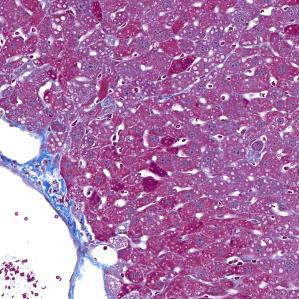fibrosis: (43, 155, 90, 234)
